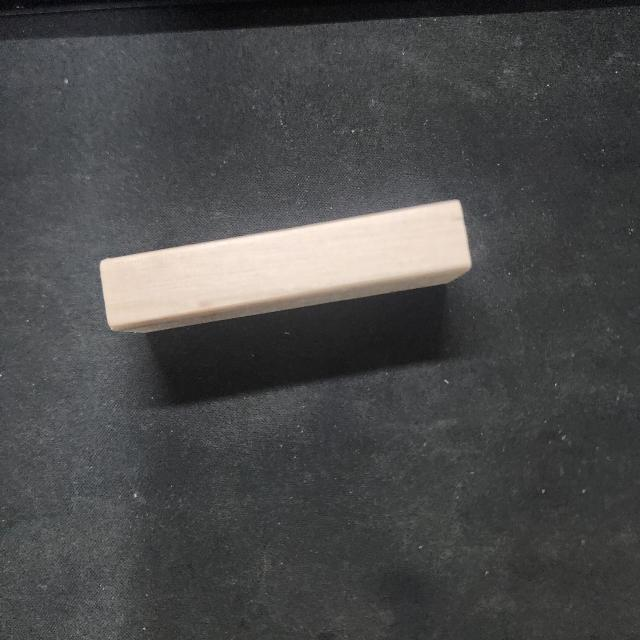wood: (99, 198, 474, 341)
